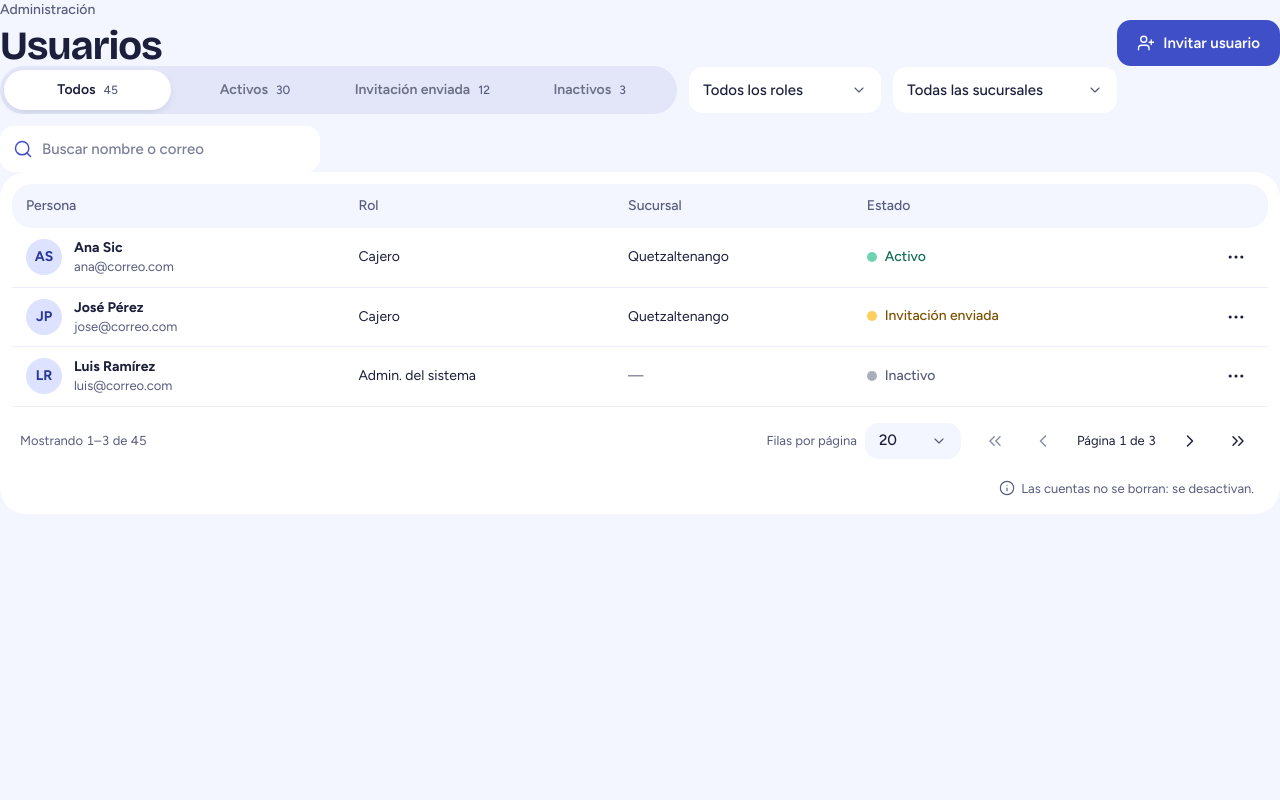
Scenario: UsersScreen › asks before deactivating and then does it
Later steps or results of the test are not shown.
Click the button named "Acciones de Ana Sic": x=1236, y=257 [1218, 239, 1254, 275]
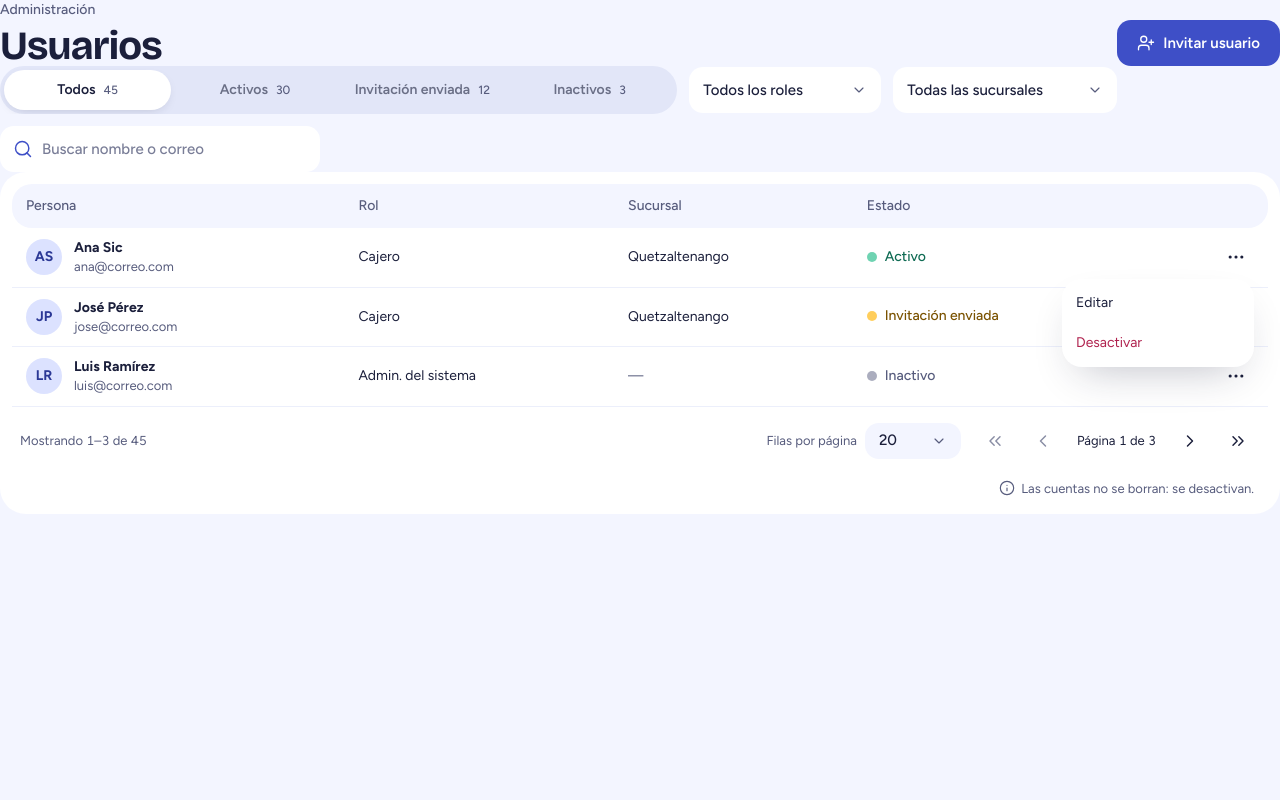
Click the menu item "Desactivar": x=1109, y=342 [1076, 334, 1142, 351]
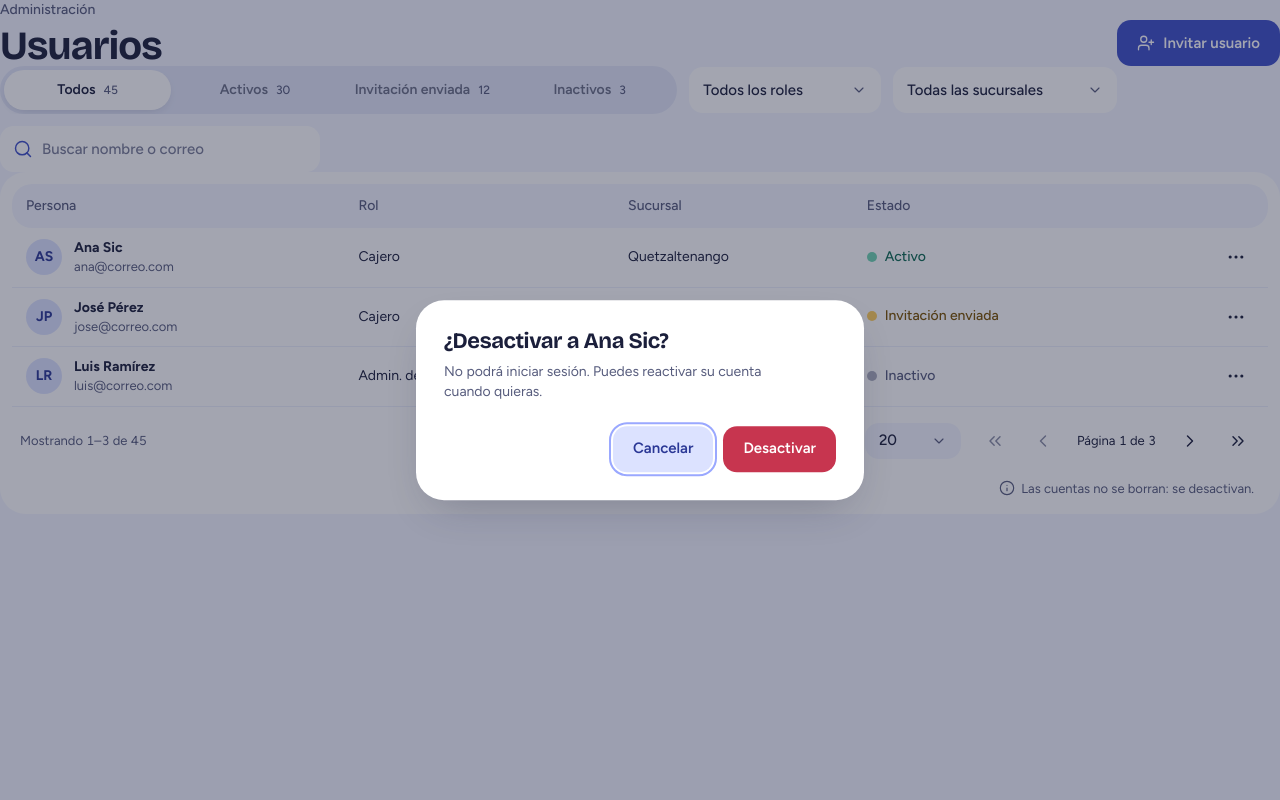
Expected: the dialog shows "¿Desactivar a Ana Sic?", [444, 328, 668, 354]
Expected: the dialog shows "No podrá iniciar sesión. Puedes reactivar su cuenta cuando quieras.", [444, 363, 762, 400]
